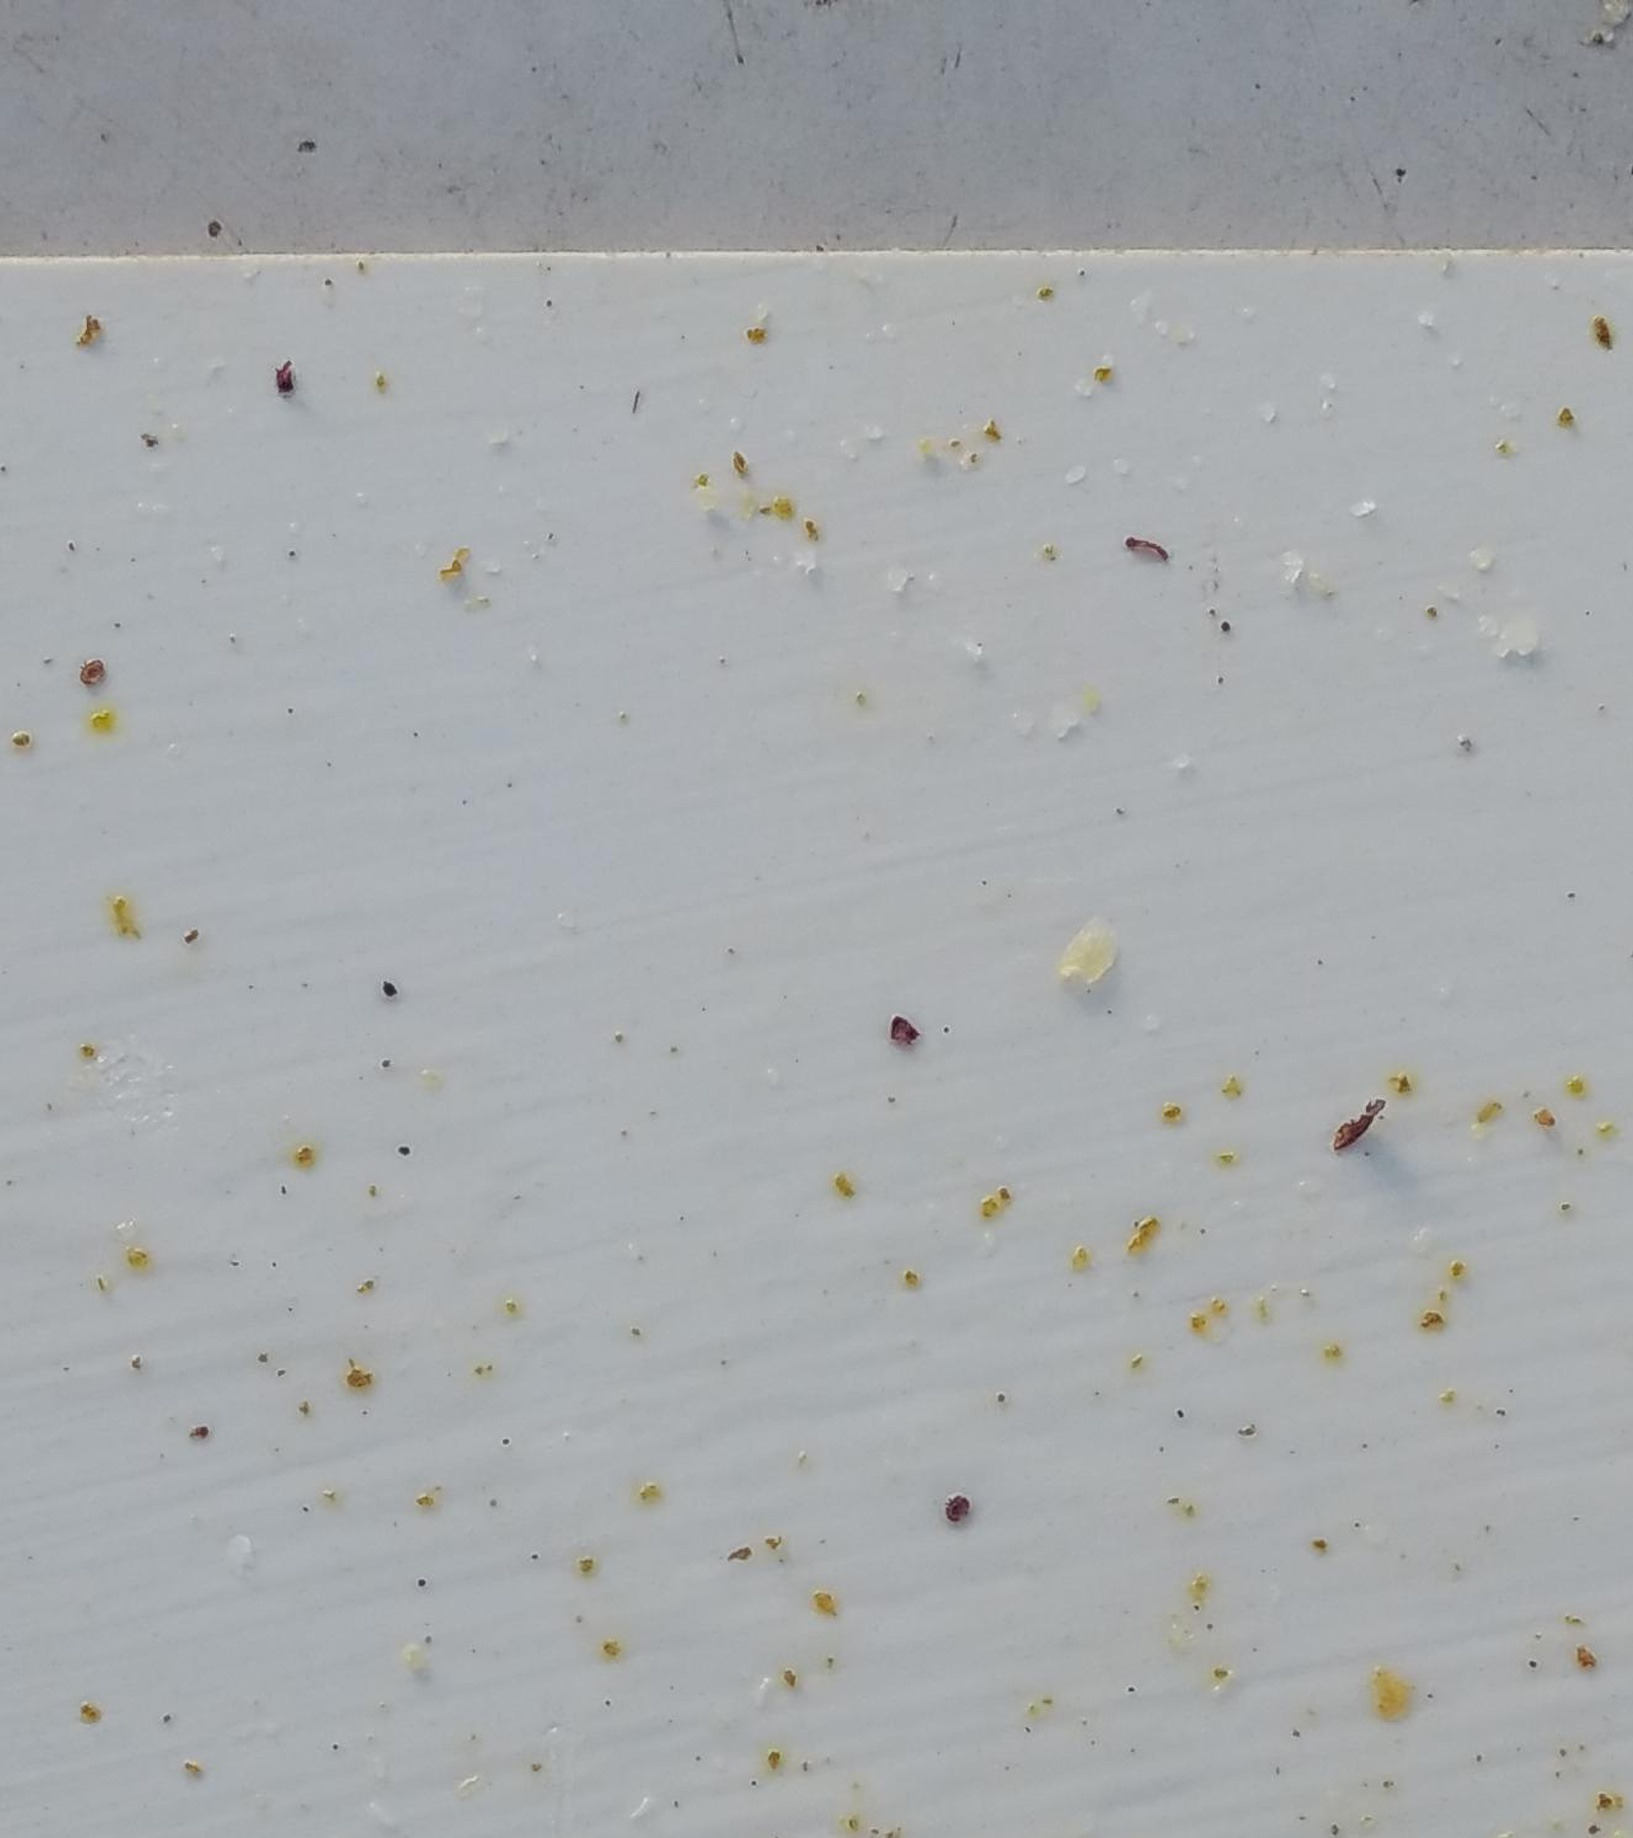Varroa: (82, 657, 106, 681), (944, 1494, 966, 1516)
